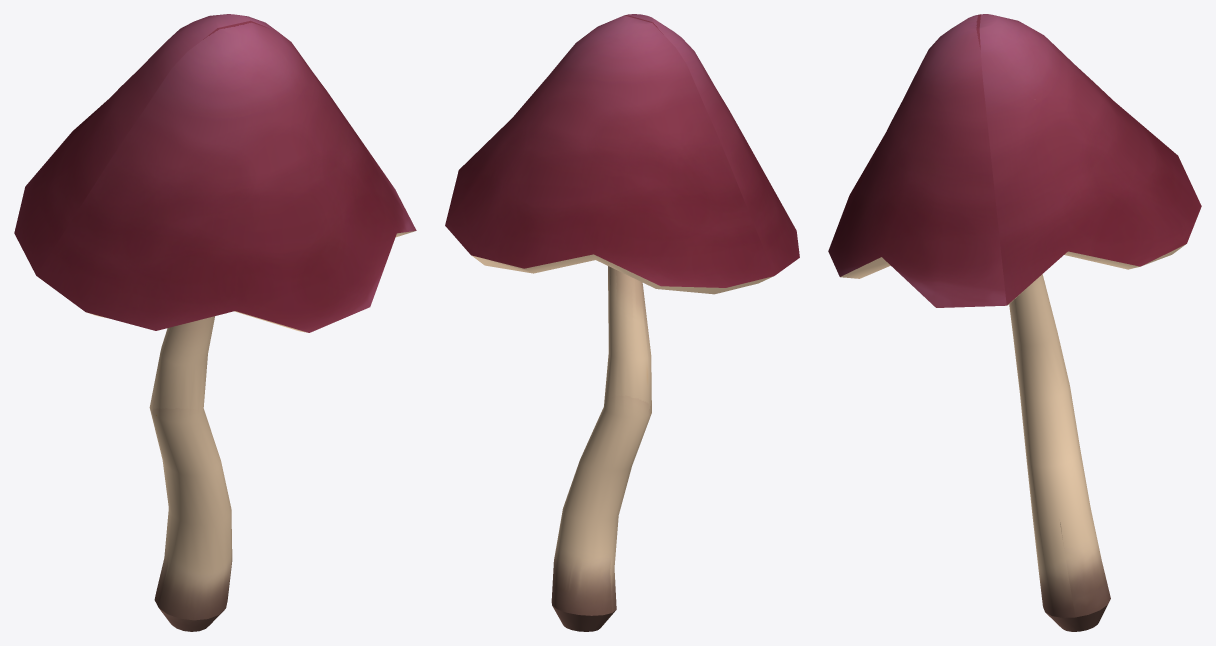
File: sieni2.fbx
3 views of the same model, side by side, from view 1: azimuth 30°, elevation 25°; view 2: azimuth 150°, elevation 25°; view 3: azimuth 270°, elevation 25° (orthographic). The views are drawn at different scales.
Parts seen in each view (by area): view 1: violetti2; view 2: violetti2; view 3: violetti2.
Part boxes in pixels (x1,y1,x2,y2): violetti2: (14,14,416,631); violetti2: (445,14,799,631); violetti2: (828,14,1201,631).
Bounding box in the file's own units: 136 × 240 × 135.
